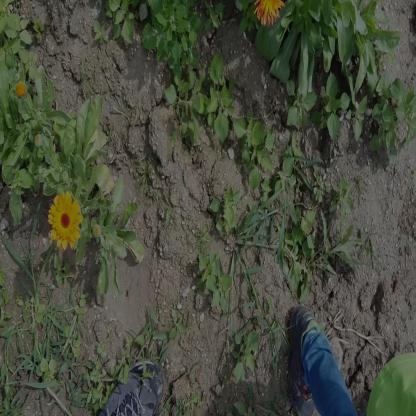marigold: (49, 190, 79, 245)
